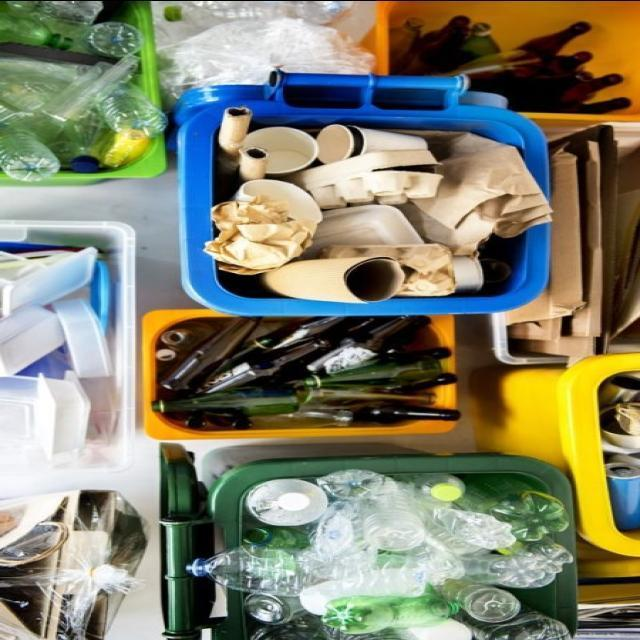Garbage: (189, 469, 573, 640), (153, 315, 460, 430), (0, 0, 167, 180), (152, 0, 376, 102)
Glass_bottle: (250, 315, 431, 385), (160, 316, 260, 390), (292, 355, 442, 388), (152, 388, 302, 414), (353, 404, 460, 422)
Plastic_Bag: (159, 18, 373, 102)
Plastic_bottle: (187, 545, 429, 598), (457, 472, 569, 540), (323, 591, 460, 632), (363, 476, 427, 550), (428, 506, 516, 554), (97, 82, 167, 138), (246, 478, 329, 525), (453, 608, 571, 640), (463, 552, 562, 588), (437, 579, 520, 621), (0, 126, 60, 180), (397, 536, 464, 584), (301, 388, 436, 409), (499, 535, 573, 565), (252, 614, 336, 640), (86, 21, 144, 56), (397, 474, 464, 504), (250, 409, 353, 428), (242, 526, 311, 548), (410, 618, 473, 640), (328, 628, 420, 640)
